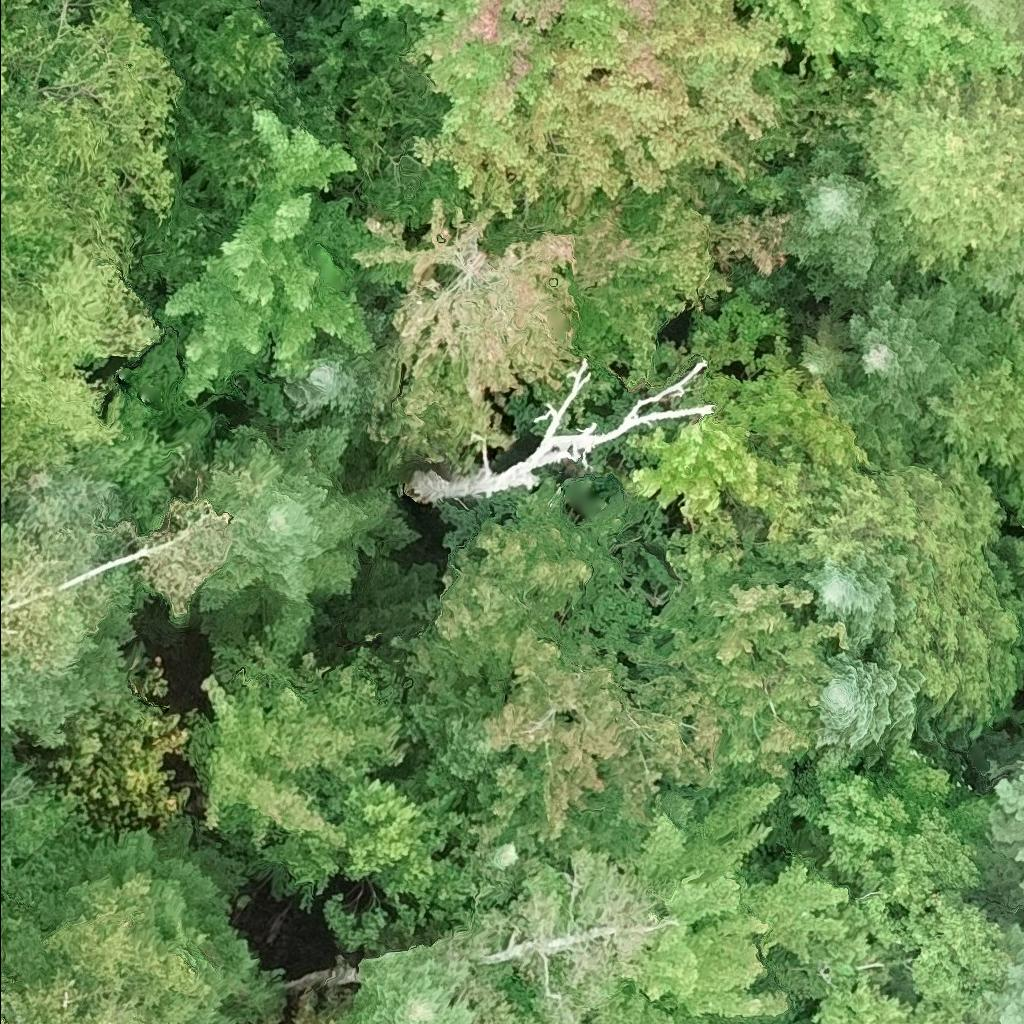crown: (400, 286, 869, 853), (118, 0, 396, 412), (401, 0, 790, 224), (162, 101, 419, 406), (590, 777, 851, 1023), (349, 197, 582, 464), (182, 597, 407, 850), (194, 412, 423, 658), (531, 167, 790, 379), (0, 0, 184, 275), (833, 68, 1023, 274), (787, 730, 989, 913), (0, 239, 166, 415), (0, 563, 156, 750), (834, 271, 1000, 440), (0, 901, 215, 1023), (886, 549, 1023, 727), (774, 126, 904, 307), (813, 643, 993, 768), (955, 710, 1023, 1023), (929, 332, 1023, 491), (870, 0, 1023, 88), (795, 553, 920, 657), (739, 0, 878, 79), (280, 338, 383, 442), (345, 940, 473, 1023), (11, 470, 128, 539), (0, 594, 69, 670), (792, 312, 853, 392), (943, 0, 1023, 44), (0, 514, 39, 594), (0, 740, 36, 804), (344, 0, 412, 23), (1012, 497, 1023, 573), (0, 906, 16, 939), (0, 980, 10, 1023), (1022, 64, 1023, 69)
